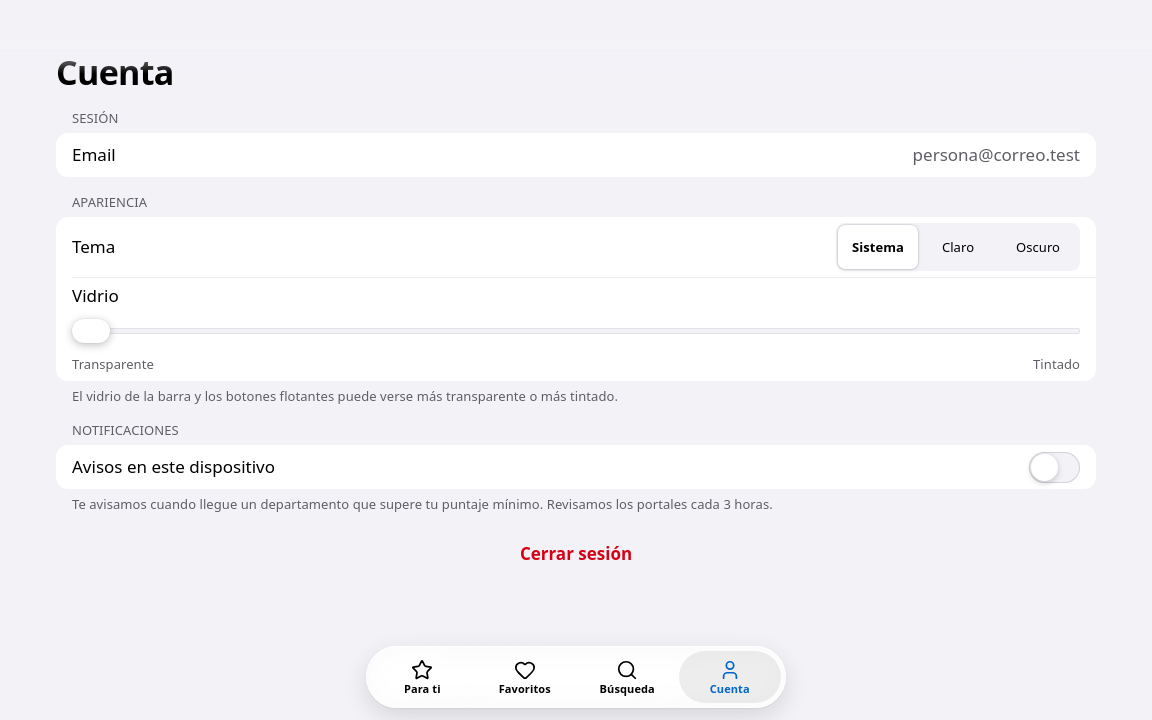
Test: AccountPage › explains how to allow notifications when the user declines
Step 1. Click the switch named "Avisos en este dispositivo" → (1054, 467), box [1029,452,1080,482]
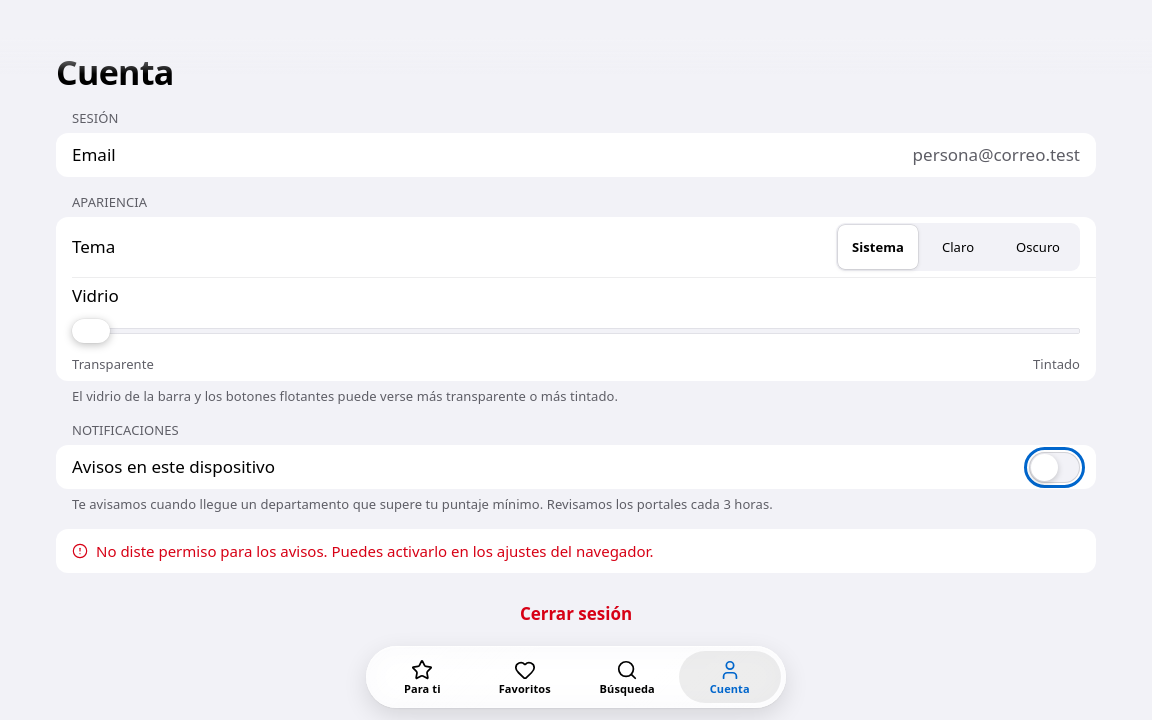
expect the text "No diste permiso para los avisos" is shown: met, box [96,541,653,561]
